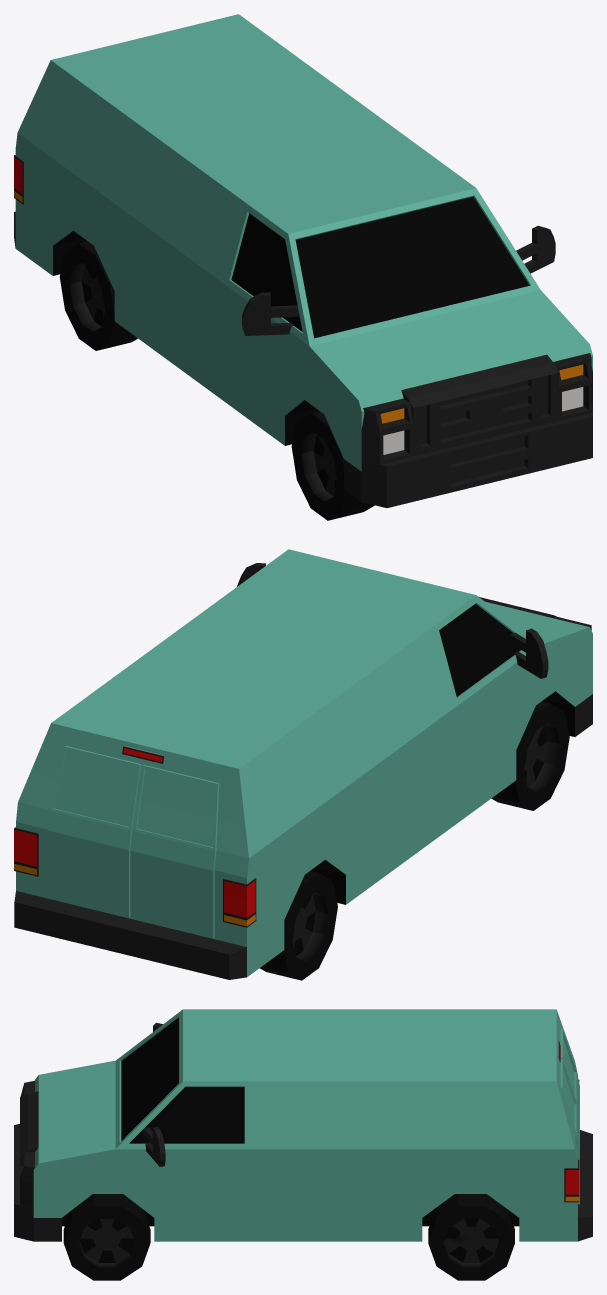
Rendered from SM_van01.FBX.
The picture shows the model from 3 angles, top to bottom: view 1: azimuth 30°, elevation 25°; view 2: azimuth 150°, elevation 25°; view 3: azimuth 270°, elevation 25°; orthographic projection. The views are drawn at different scales.
Visible parts, largest first — view 1: FordVan; view 2: FordVan; view 3: FordVan.
Boxes of the visible parts, left/top/right/bottom form: FordVan: left=14, top=14, right=592, bottom=520; FordVan: left=14, top=549, right=592, bottom=980; FordVan: left=14, top=1009, right=592, bottom=1280.
Bounding box in the file's own units: 256 × 189 × 523.
